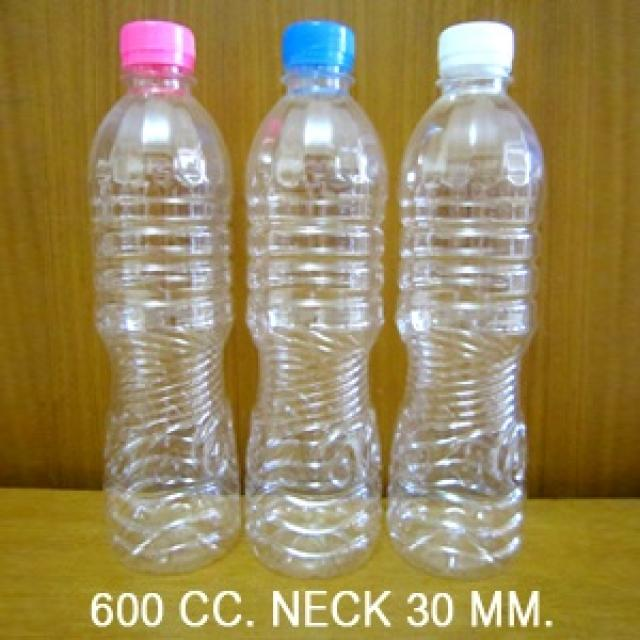bottle: (388, 21, 548, 582), (90, 16, 244, 574), (242, 19, 391, 582)
